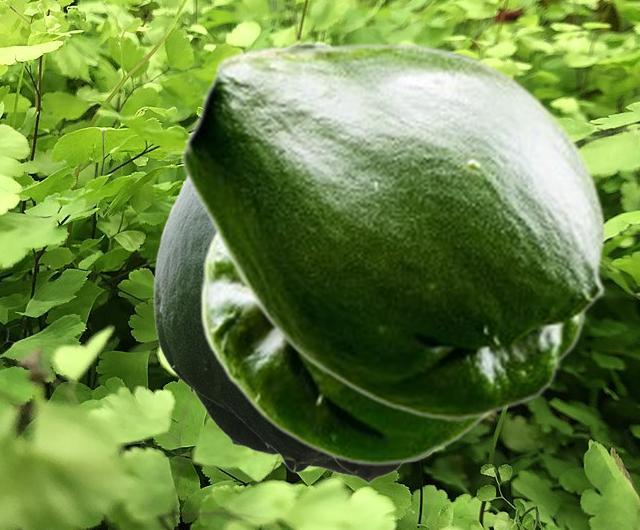sayote: (181, 41, 606, 420), (153, 177, 432, 483), (199, 229, 492, 465)
